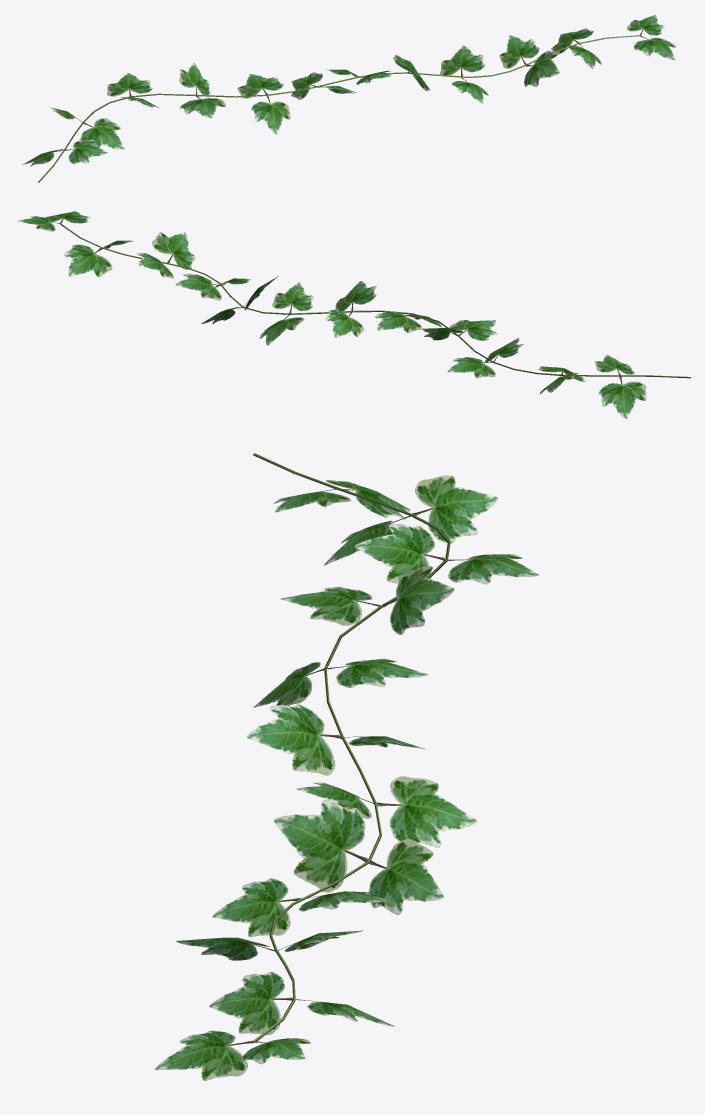
File: Ivy_Line_01.FBX
3 views of the same model, one above another, from view 1: azimuth 30°, elevation 25°; view 2: azimuth 150°, elevation 25°; view 3: azimuth 270°, elevation 25° (orthographic). The views are drawn at different scales.
Visible parts, largest first — view 1: Ivy_Line_01; view 2: Ivy_Line_01; view 3: Ivy_Line_01.
Part boxes in pixels (x1,y1,x2,y2): Ivy_Line_01: (22,14,675,182); Ivy_Line_01: (18,211,690,418); Ivy_Line_01: (154,453,538,1080).
Bounding box in the file's own units: 4.33 × 0.4612 × 1.22.
